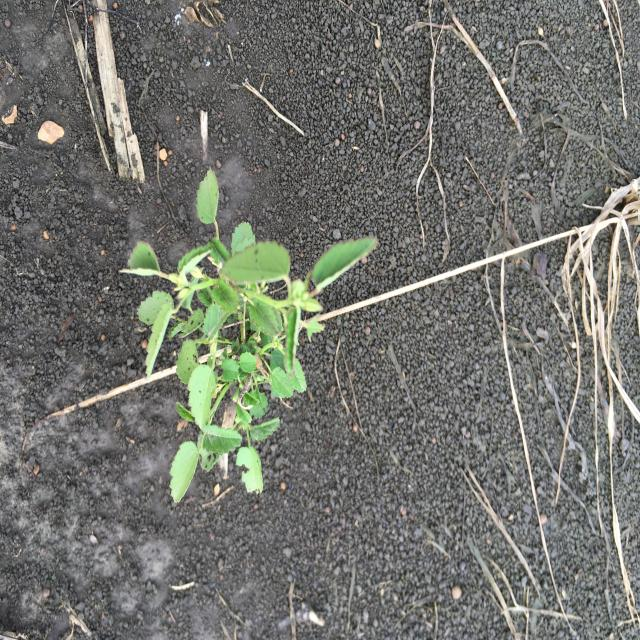PricklySida: (117, 166, 379, 505)
